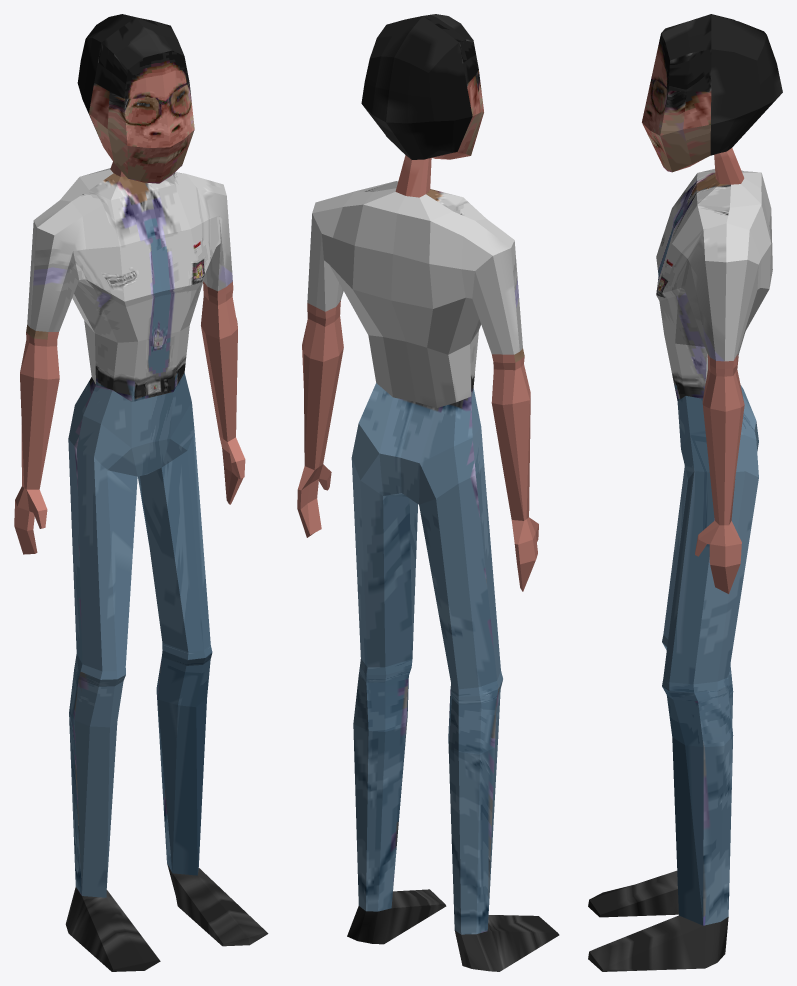
File: karakterbaru.fbx
3 views of the same model, side by side, from view 1: azimuth 30°, elevation 25°; view 2: azimuth 150°, elevation 25°; view 3: azimuth 270°, elevation 25° (orthographic). The views are drawn at different scales.
Parts seen in each view (by area): view 1: Cube.021; view 2: Cube.021; view 3: Cube.021.
Boxes of the visible parts, x1,y1,x2,y2 form: Cube.021: (14,14,268,971); Cube.021: (297,14,559,971); Cube.021: (588,14,782,971).
Size of the model in its own units: 58.22 by 219 by 42.21.
